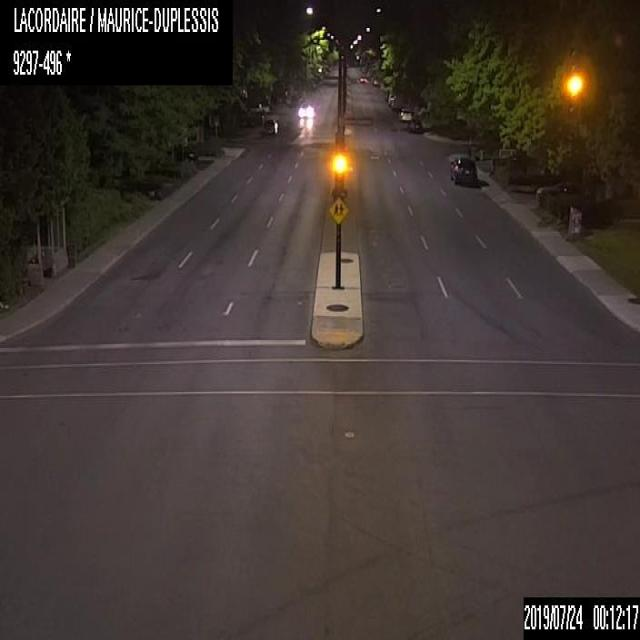vehicle: (536, 179, 585, 204), (448, 153, 478, 190), (296, 96, 314, 119), (262, 116, 278, 136), (407, 116, 424, 132), (400, 105, 414, 120), (386, 92, 398, 105)
